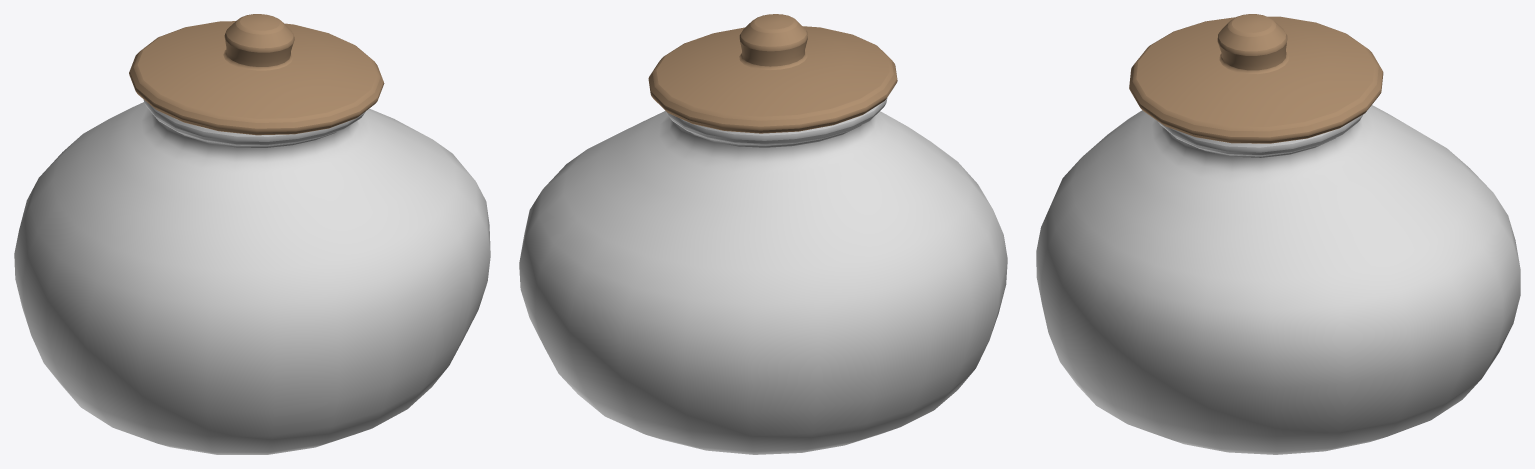
File: pc_banga_3.glb
The picture shows the model from 3 angles, left to right: view 1: azimuth 30°, elevation 25°; view 2: azimuth 150°, elevation 25°; view 3: azimuth 270°, elevation 25°; orthographic projection. The views are drawn at different scales.
Visible parts, largest first — view 1: pc_banga_3_pc_clay, pc_banga_3_timber; view 2: pc_banga_3_pc_clay, pc_banga_3_timber; view 3: pc_banga_3_pc_clay, pc_banga_3_timber.
Part boxes in pixels (box(x1,y1,x2,y2)): pc_banga_3_pc_clay: box(14, 99, 490, 454); pc_banga_3_timber: box(129, 14, 384, 135); pc_banga_3_pc_clay: box(519, 98, 1007, 454); pc_banga_3_timber: box(648, 14, 897, 133); pc_banga_3_pc_clay: box(1036, 105, 1520, 454); pc_banga_3_timber: box(1129, 14, 1383, 143).
Size of the model in its own units: 0.7582 by 0.6515 by 0.747.
